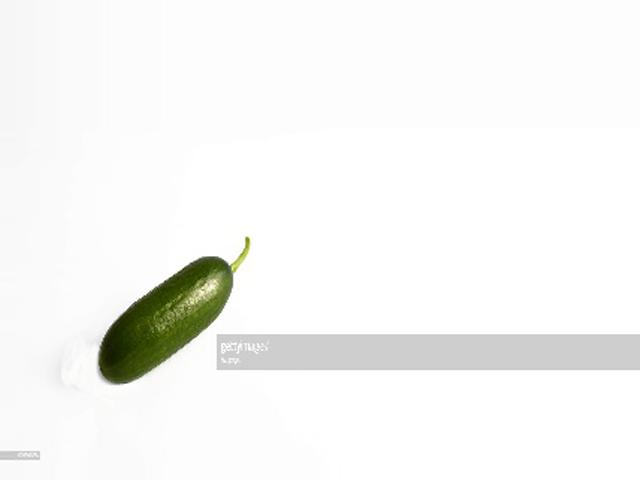cucumber: (100, 238, 253, 385)
